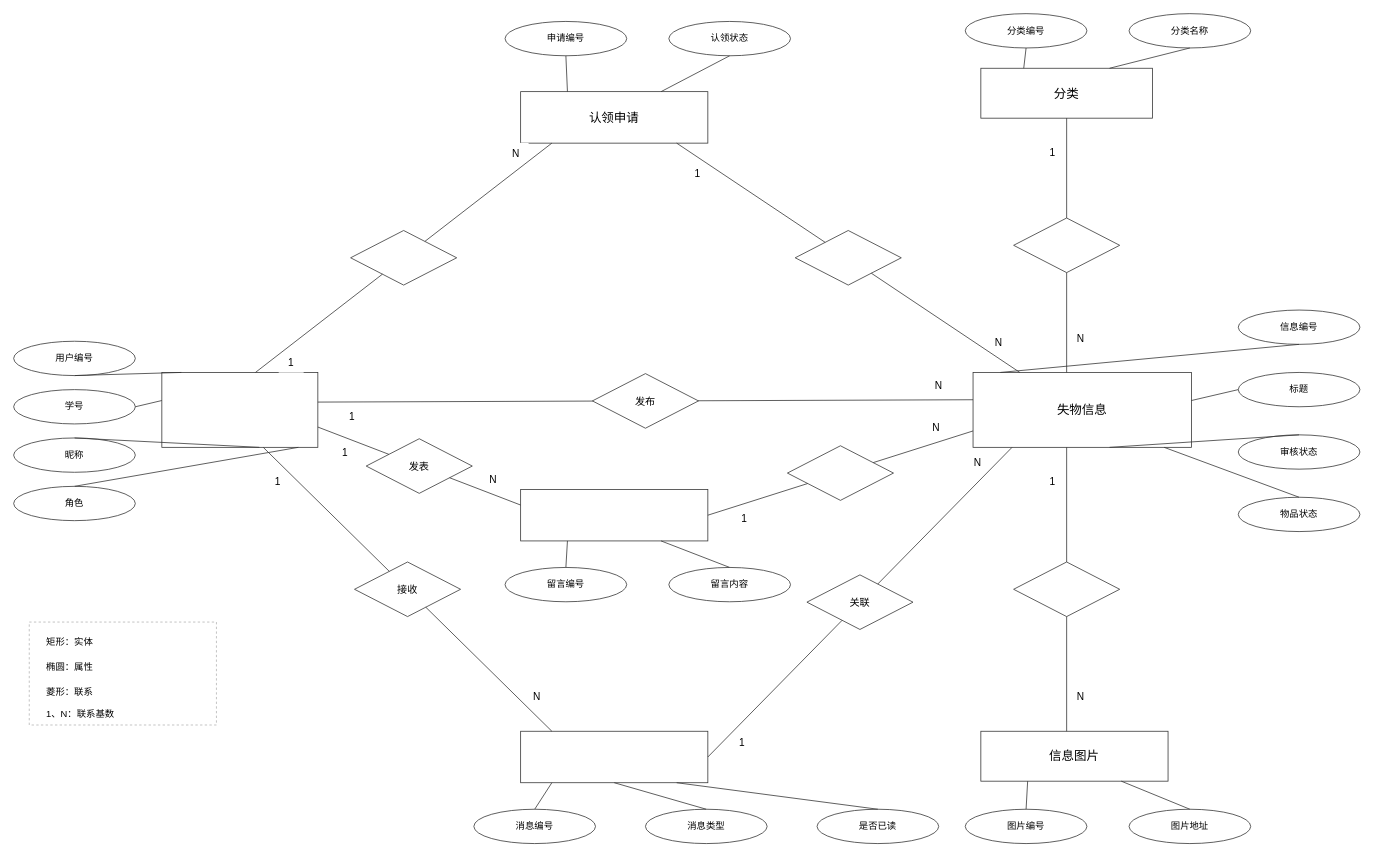
Some shapes in this 1374 by 857 pixel diagram are drawn without their labels. Each missing label, with the centre of its shape:
包含: pixel 1066 589
归类: pixel 1066 245
用户: pixel 239 409
申请: pixel 403 257
留言: pixel 614 515
站内消息: pixel 614 756
被申请: pixel 847 257
被留言: pixel 840 472
